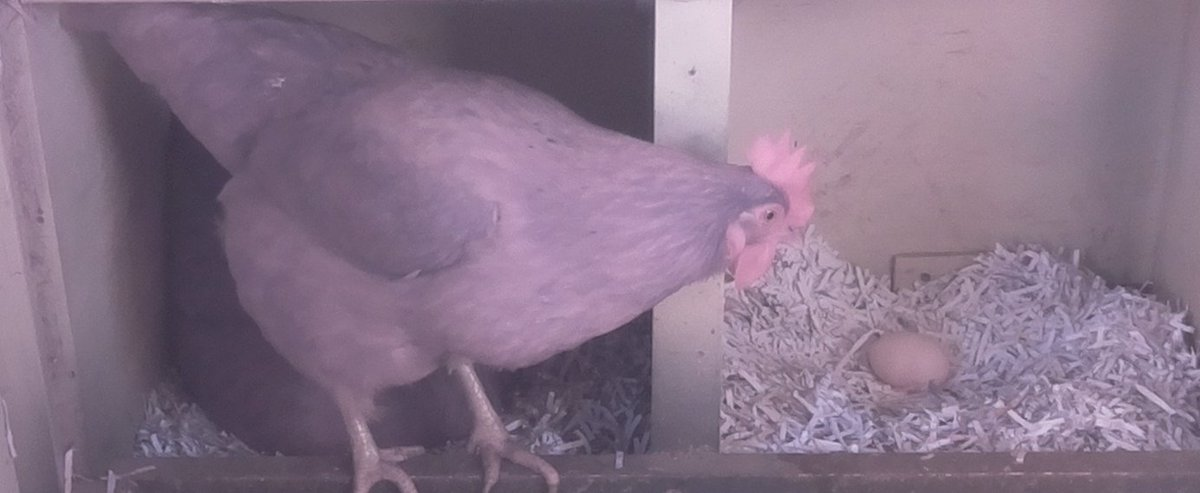egg: (862, 331, 953, 394)
hen: (73, 7, 820, 486)
